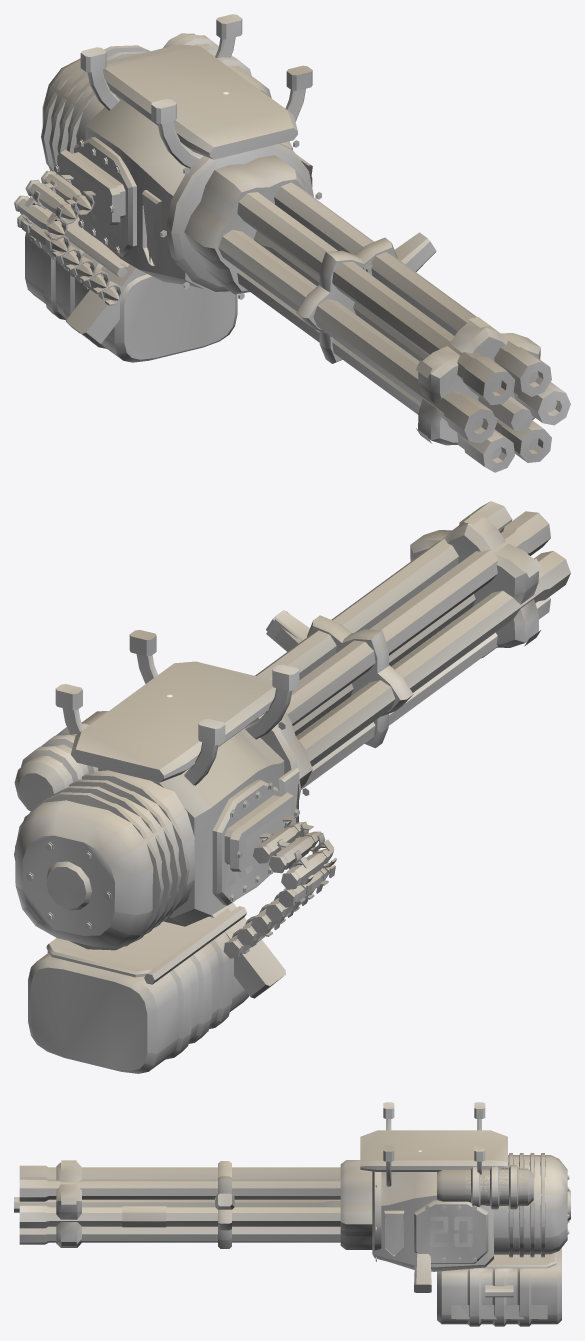
The model's file is minigun-l-left.glb.
The picture shows the model from 3 angles, top to bottom: view 1: azimuth 30°, elevation 25°; view 2: azimuth 150°, elevation 25°; view 3: azimuth 270°, elevation 25°; orthographic projection. The views are drawn at different scales.
Parts seen in each view (by area): view 1: Body, Spin; view 2: Body, Spin; view 3: Body, Spin.
Boxes of the visible parts, x1,y1,x2,y2 form: Body: [14, 14, 321, 362]; Spin: [184, 155, 570, 472]; Body: [14, 630, 336, 1073]; Spin: [255, 501, 570, 789]; Body: [360, 1102, 570, 1326]; Spin: [14, 1160, 372, 1249].
Size of the model in its own units: 0.5377 by 0.575 by 1.52.
